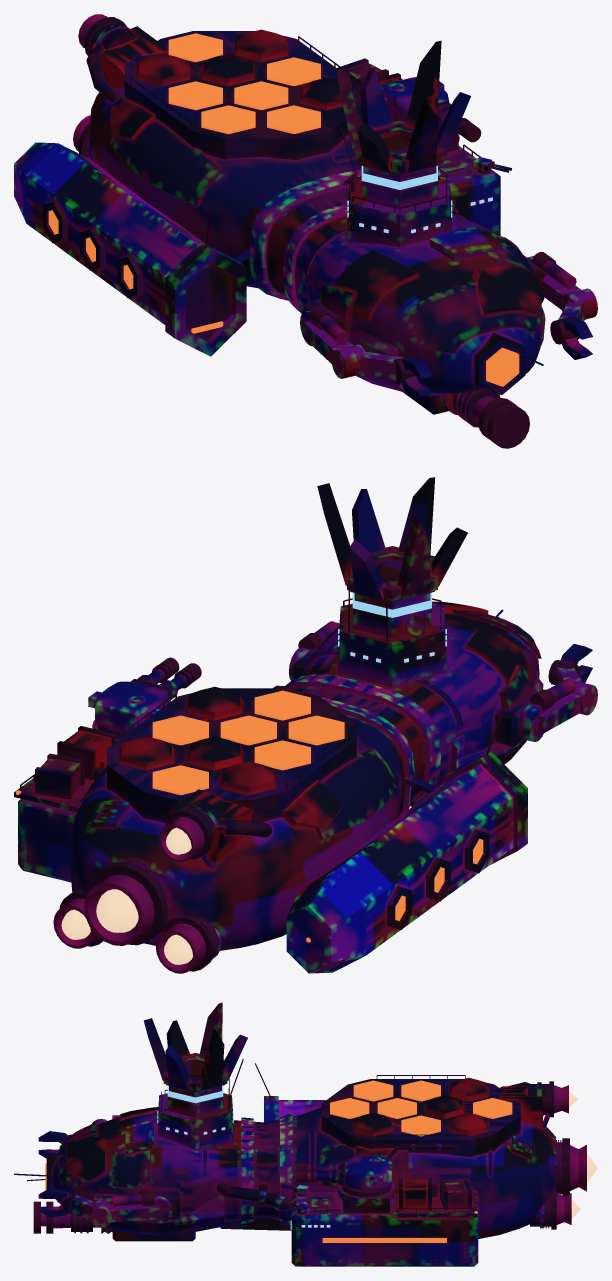
Rendered from scrap_king.glb.
3 renders of one model, top to bottom at view 1: azimuth 30°, elevation 25°; view 2: azimuth 150°, elevation 25°; view 3: azimuth 270°, elevation 25°, orthographic. The views are drawn at different scales.
Visible parts, largest first — view 1: scrap_king; view 2: scrap_king; view 3: scrap_king.
Part boxes in pixels (left/top/right/bottom): scrap_king: left=14, top=14, right=597, bottom=448; scrap_king: left=14, top=477, right=597, bottom=973; scrap_king: left=14, top=1002, right=597, bottom=1266.
Bounding box in the file's own units: 5.7 × 4.75 × 11.26.
Materials: 16 (12 with a texture image).
